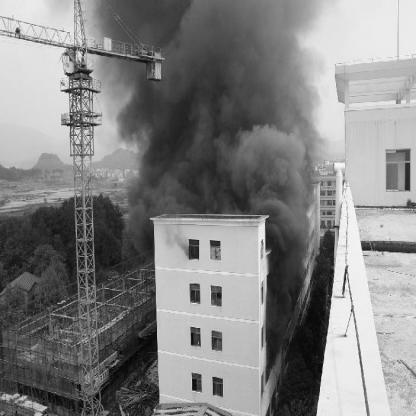smoke: (97, 2, 320, 146), (126, 148, 315, 216), (268, 219, 314, 344)
